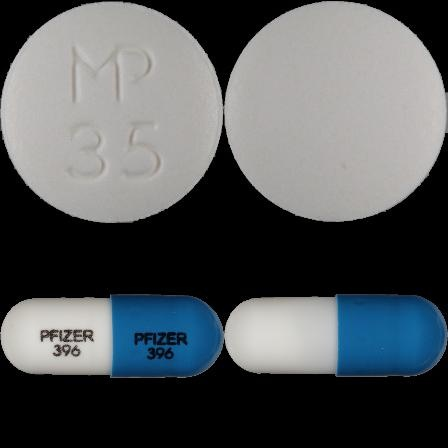50436-9973: (0, 0, 224, 224)
